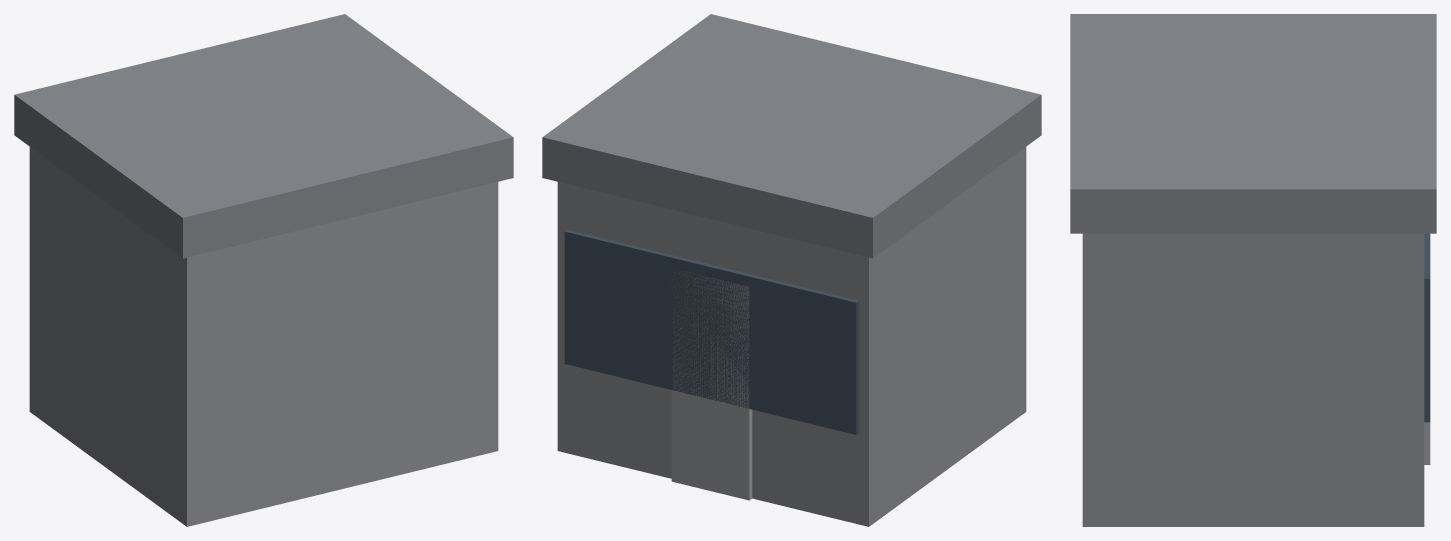
File: hk-gate-hut.glb
3 views of the same model, side by side, from view 1: azimuth 30°, elevation 25°; view 2: azimuth 150°, elevation 25°; view 3: azimuth 270°, elevation 25° (orthographic). The views are drawn at different scales.
Parts seen in each view (by area): view 1: hk-gate-hut; view 2: hk-gate-hut; view 3: hk-gate-hut.
Boxes of the visible parts, x1,y1,x2,y2 form: hk-gate-hut: (14, 14, 513, 526); hk-gate-hut: (542, 14, 1041, 526); hk-gate-hut: (1070, 14, 1436, 526).
Size of the model in its own units: 3.4 by 3.1 by 3.
